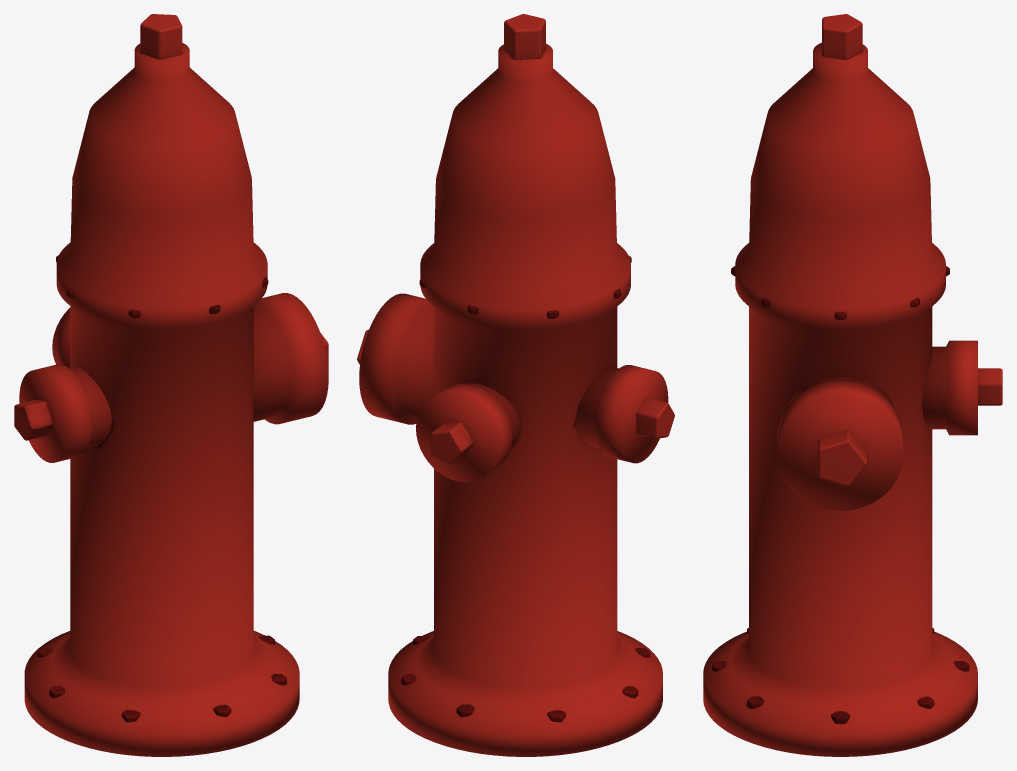
File: red-classic.glb
The picture shows the model from 3 angles, left to right: view 1: azimuth 30°, elevation 25°; view 2: azimuth 150°, elevation 25°; view 3: azimuth 270°, elevation 25°; orthographic projection.
Visible parts, largest first — view 1: paint_primary; view 2: paint_primary; view 3: paint_primary.
Part boxes in pixels (box(x1,y1,x2,y2)): paint_primary: box(14, 14, 328, 756); paint_primary: box(357, 14, 674, 756); paint_primary: box(703, 14, 1002, 756).
Size of the model in its own units: 0.374 by 0.815 by 0.327.
1 material, 1 textured.
